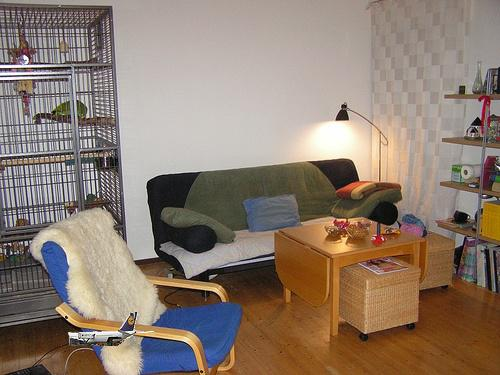tampered: (69, 313, 154, 346)
